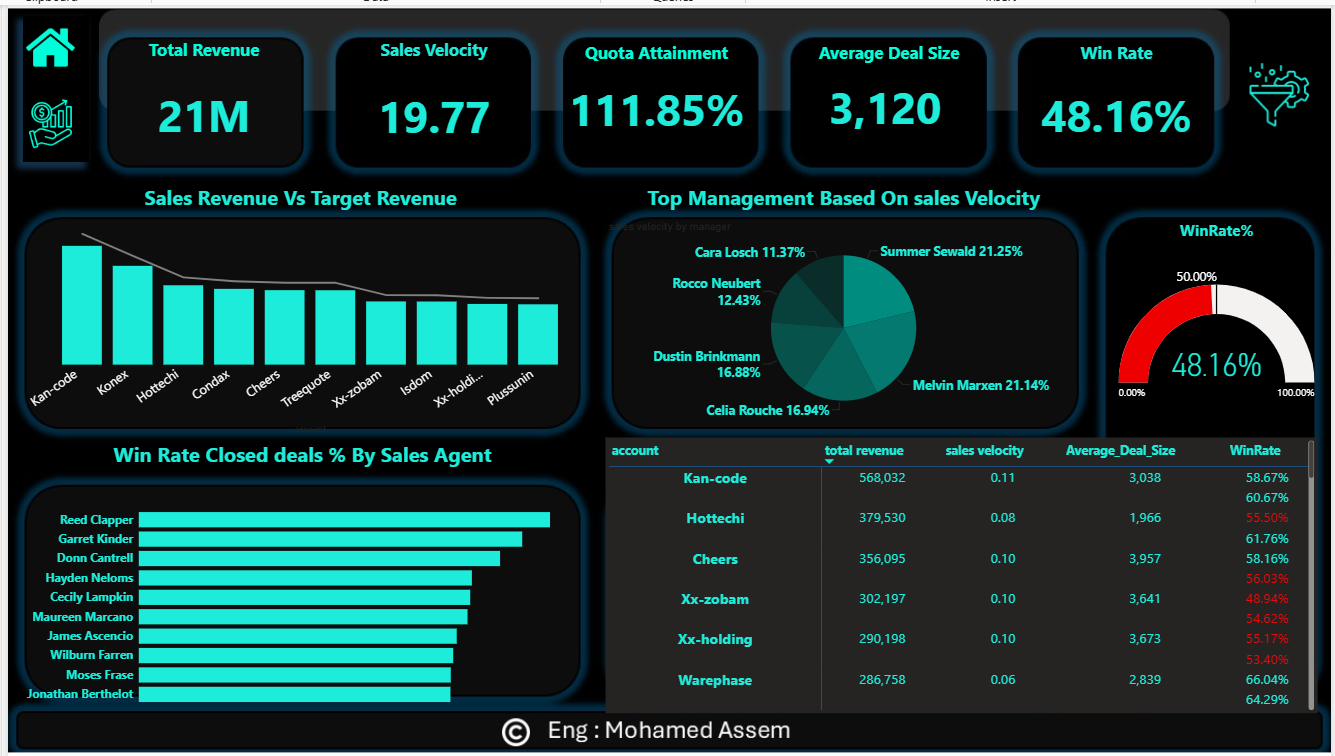

What the dashboard file says about the page in this screenshot:
{"tool":"powerbi","page":{"name":"Sales Performance","canvas":[2100,1200],"ordinal":2},"visuals":[{"type":"shape","box":[23.8,17.5,104.1,232],"z":0},{"type":"image","box":[23.8,17.9,87.3,99.2],"z":1000},{"type":"image","box":[23.8,132.9,87.3,111.1],"z":2000},{"type":"image","box":[1956.4,87.6,122.6,111],"z":3000},{"type":"card","fields":{"Values":["Dax measure.Quota Attainment (%)"]},"box":[885.3,75.7,288.8,172.8],"z":4000},{"type":"textbox","box":[885.3,33.1,288.8,73.4],"z":5000},{"type":"card","fields":{"Values":["Dax measure.Average_Deal_Size"]},"box":[1247.4,71,288.8,172.8],"z":6000},{"type":"textbox","box":[1247.4,52.1,300.6,68.6],"z":7000},{"type":"card","fields":{"Values":["Dax measure.total revenue"]},"box":[165.7,85.2,288.8,172.8],"z":8000},{"type":"textbox","box":[165.7,47.3,288.8,59.2],"z":9000},{"type":"card","fields":{"Values":["Dax measure.sales velocity"]},"box":[530.2,87.6,293.5,170.4],"z":10000},{"type":"textbox","box":[532.6,47.3,288.8,59.2],"z":11000},{"type":"card","fields":{"Values":["Dax measure.WinRate"]},"box":[1614.3,85.2,288.8,172.8],"z":12000},{"type":"textbox","box":[1614.3,52.1,288.8,49.7],"z":13000},{"type":"lineClusteredColumnComboChart","fields":{"Category":["sales_pipeline.account"],"Y":["Dax measure.total revenue"],"Y2":["Dax measure.Target Revenue"]},"box":[23.4,341.6,887.7,344.6],"z":14000},{"type":"textbox","box":[67.2,277.4,794.2,64.2],"z":15000},{"type":"pieChart","fields":{"Category":["sales_teams.manager"],"Y":["Dax measure.sales velocity"]},"box":[949,341.6,756.3,324.1],"z":16000},{"type":"textbox","box":[949,277.4,756.3,67.2],"z":17000},{"type":"clusteredBarChart","fields":{"Category":["sales_teams.sales_agent"],"Y":["Dax measure.WinRate"]},"box":[23.4,779.6,887.7,344.6],"z":18000},{"type":"pivotTable","fields":{"Rows":["sales_pipeline.account"],"Values":["Dax measure.total revenue","Dax measure.sales velocity","Dax measure.Average_Deal_Size","Dax measure.WinRate"]},"box":[949,686.2,1130,438],"z":19000},{"type":"textbox","box":[23.4,686.2,887.7,93.4],"z":20000},{"type":"gauge","title":"WinRate%","fields":{"Y":["Dax measure.WinRate"]},"box":[1757.8,341.6,321.2,324.1],"z":21000}]}

Visuals, with their boxes on the page's 2100x1200 design canvas (x1, y1, x2, y2). These are canvas units, not pixel positions in the 1335x756 screenshot, which may show the page scaled, cropped or inside an application window:
shape: Rect(24, 18, 128, 250)
image: Rect(24, 18, 111, 117)
image: Rect(24, 133, 111, 244)
image: Rect(1956, 88, 2079, 199)
card - Dax measure.Quota Attainment (%): Rect(885, 76, 1174, 248)
textbox: Rect(885, 33, 1174, 106)
card - Dax measure.Average_Deal_Size: Rect(1247, 71, 1536, 244)
textbox: Rect(1247, 52, 1548, 121)
card - Dax measure.total revenue: Rect(166, 85, 454, 258)
textbox: Rect(166, 47, 454, 106)
card - Dax measure.sales velocity: Rect(530, 88, 824, 258)
textbox: Rect(533, 47, 821, 106)
card - Dax measure.WinRate: Rect(1614, 85, 1903, 258)
textbox: Rect(1614, 52, 1903, 102)
lineClusteredColumnComboChart - sales_pipeline.account x Dax measure.total revenue: Rect(23, 342, 911, 686)
textbox: Rect(67, 277, 861, 342)
pieChart - sales_teams.manager x Dax measure.sales velocity: Rect(949, 342, 1705, 666)
textbox: Rect(949, 277, 1705, 345)
clusteredBarChart - sales_teams.sales_agent x Dax measure.WinRate: Rect(23, 780, 911, 1124)
pivotTable - sales_pipeline.account x Dax measure.total revenue: Rect(949, 686, 2079, 1124)
textbox: Rect(23, 686, 911, 780)
"WinRate%" gauge: Rect(1758, 342, 2079, 666)
